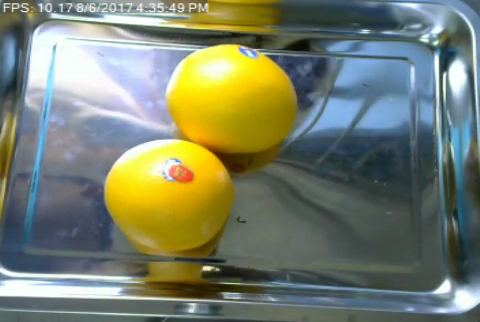Orange: (101, 138, 232, 252), (164, 44, 298, 155)
